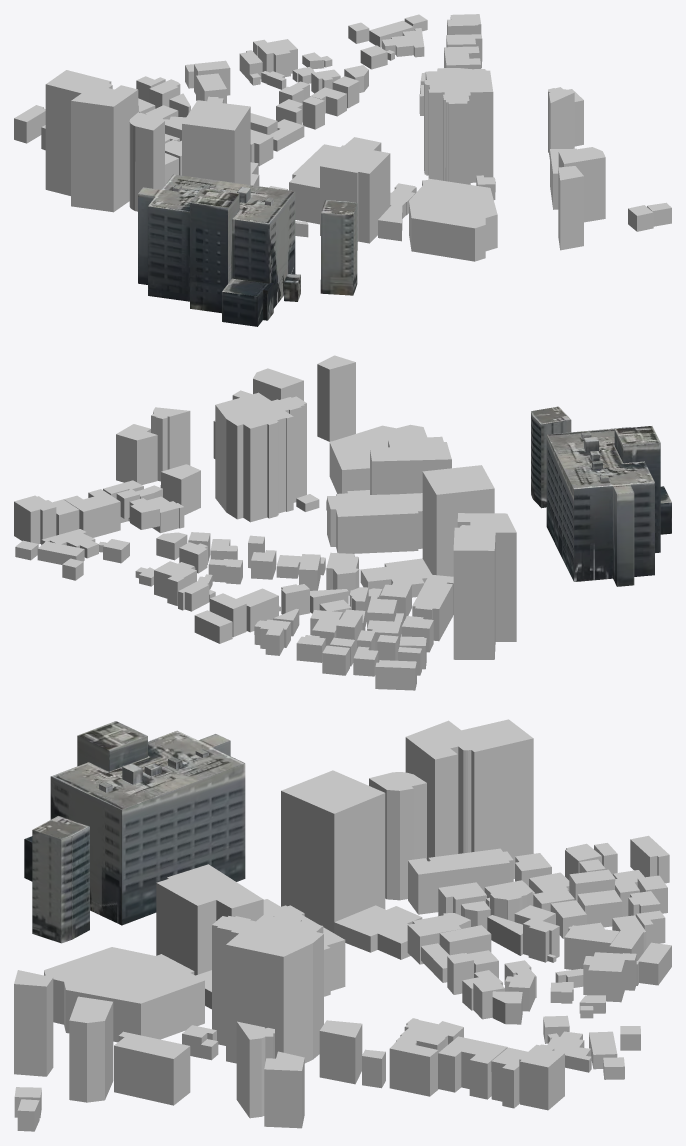
File: building_3_3.glb
3 views of the same model, one above another, from view 1: azimuth 30°, elevation 25°; view 2: azimuth 150°, elevation 25°; view 3: azimuth 270°, elevation 25° (orthographic). The views are drawn at different scales.
Bounding box in the file's own units: 197 × 44.02 × 183.
Materials: 2 (1 with a texture image).
